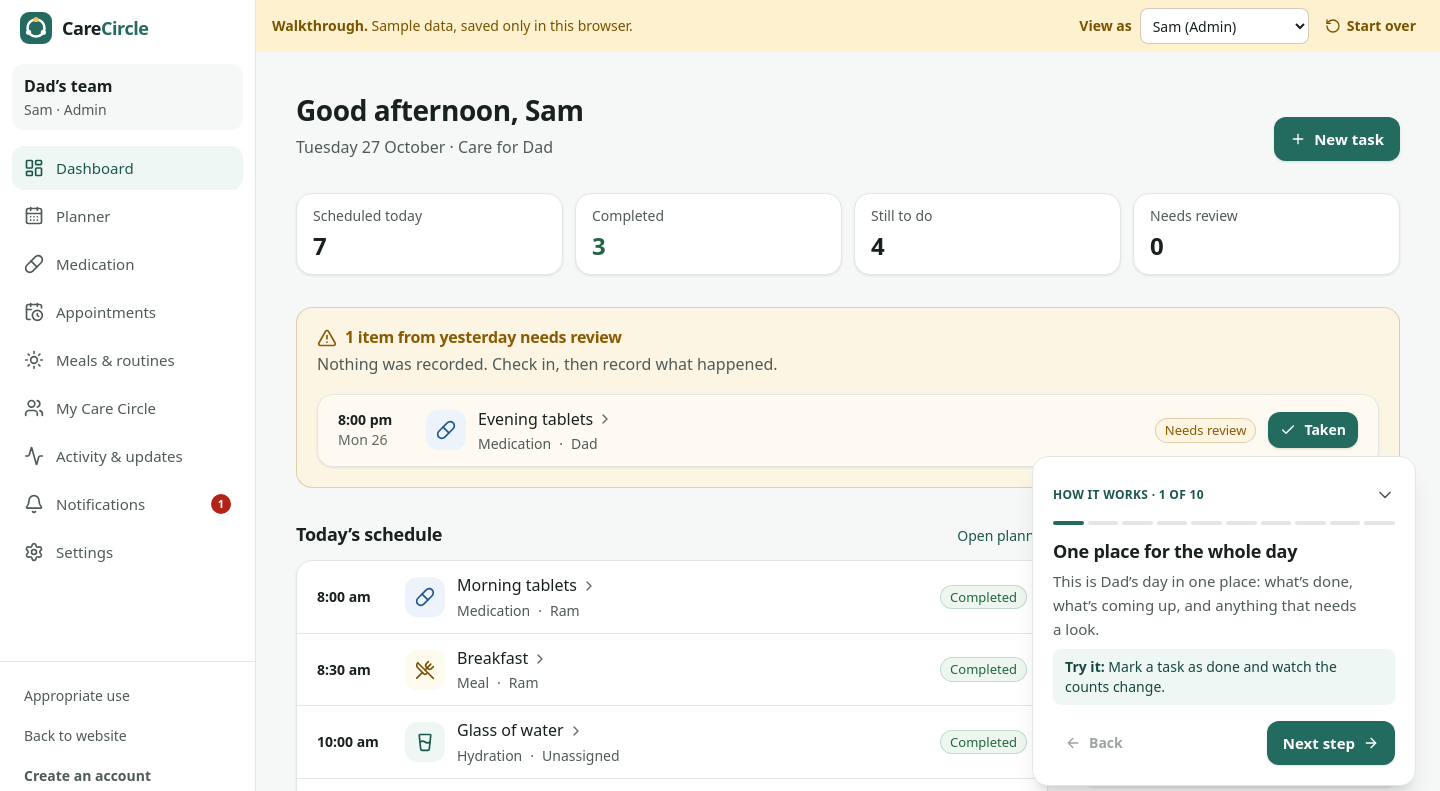
the guided walkthrough › moves through the tour to the next page
Expected: the heading "One place for the whole day" is shown, [1053, 539, 1297, 563]
Click the button "Next step": (1331, 743) [1267, 721, 1395, 765]
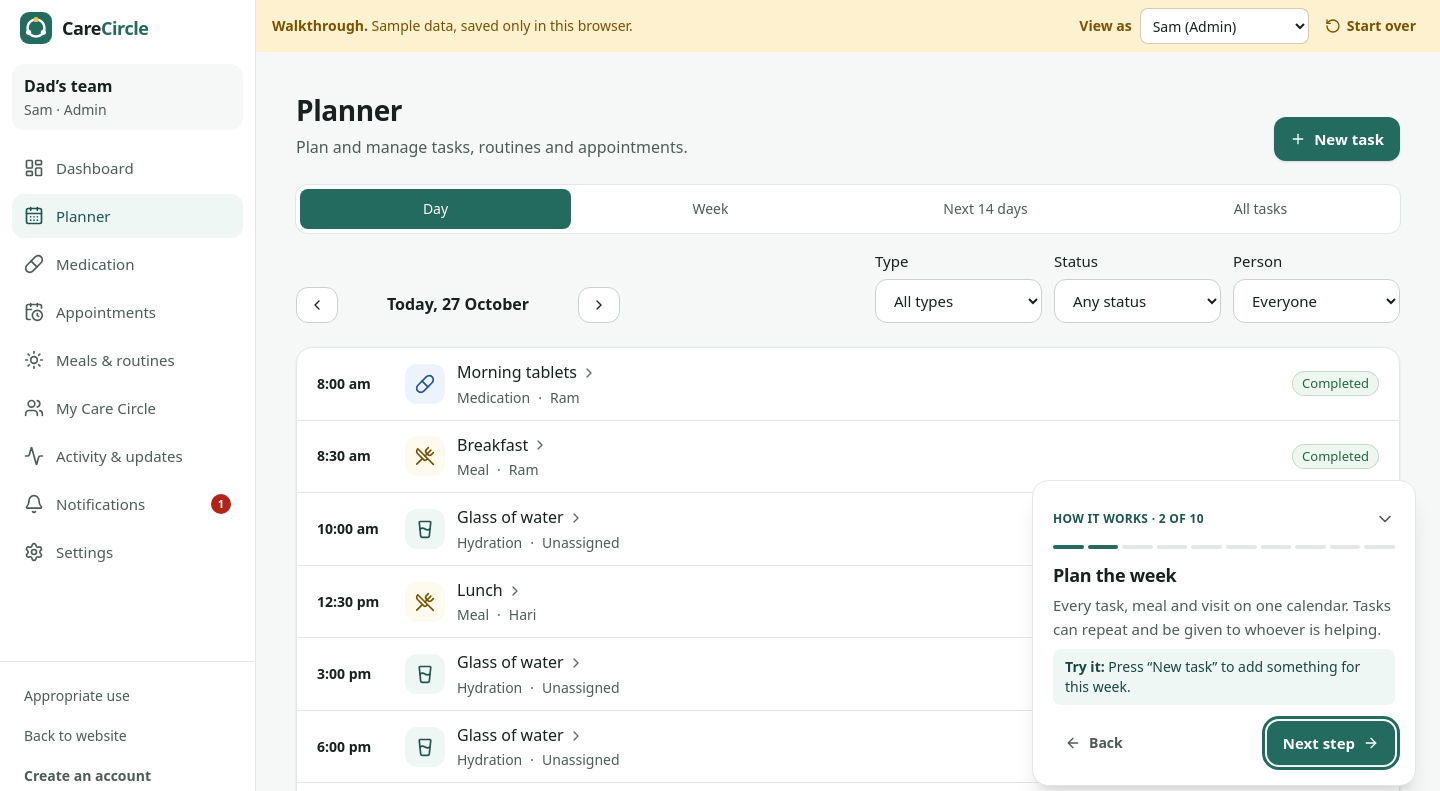
Result: the heading "Planner" is shown at [296, 91, 402, 129]
Result: the heading "Plan the week" is shown at [1053, 563, 1176, 587]
